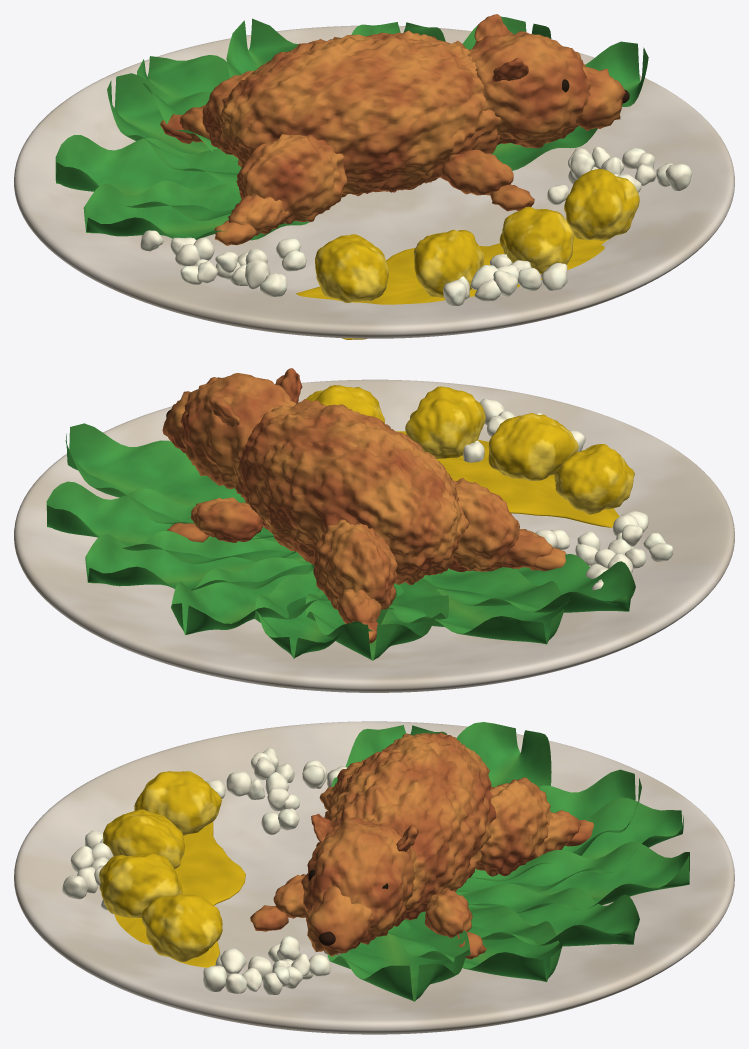
File: comida_m4.glb
3 views of the same model, one above another, from view 1: azimuth 30°, elevation 25°; view 2: azimuth 150°, elevation 25°; view 3: azimuth 270°, elevation 25° (orthographic).
Visible parts, largest first — view 1: vajilla, cuy_piel, lechuga, papas, mote, salsa_mani; view 2: vajilla, cuy_piel, lechuga, papas, mote, salsa_mani; view 3: vajilla, cuy_piel, lechuga, papas, mote, salsa_mani.
Boxes of the visible parts, x1,y1,x2,y2 form: vajilla: (14,25,734,338); cuy_piel: (160,14,625,245); lechuga: (55,16,648,240); papas: (315,169,639,302); mote: (140,147,692,305); salsa_mani: (296,235,607,339); vajilla: (14,379,734,692); cuy_piel: (162,368,566,643); lechuga: (46,423,635,660); papas: (306,385,634,514); mote: (463,398,673,590); salsa_mani: (396,431,619,527); vajilla: (14,721,734,1034); cuy_piel: (250,732,593,959); lechuga: (327,722,689,1001); papas: (99,771,222,962); mote: (62,748,347,994); salsa_mani: (114,822,245,967).
Size of the model in its own units: 1.2 by 0.3282 by 1.2.
